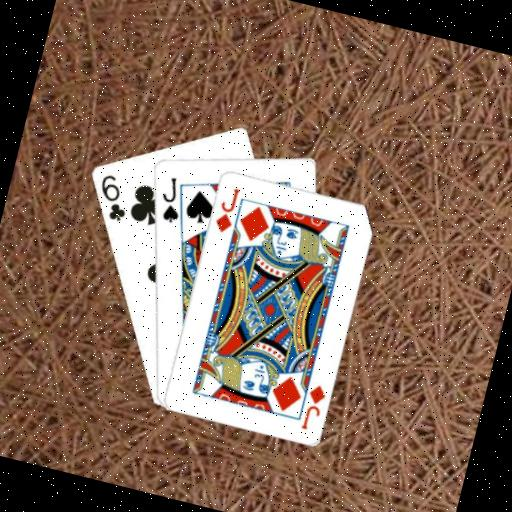6C: (89, 169, 136, 225)
JD: (210, 181, 242, 235), (297, 379, 329, 433)
JS: (153, 171, 190, 226)
